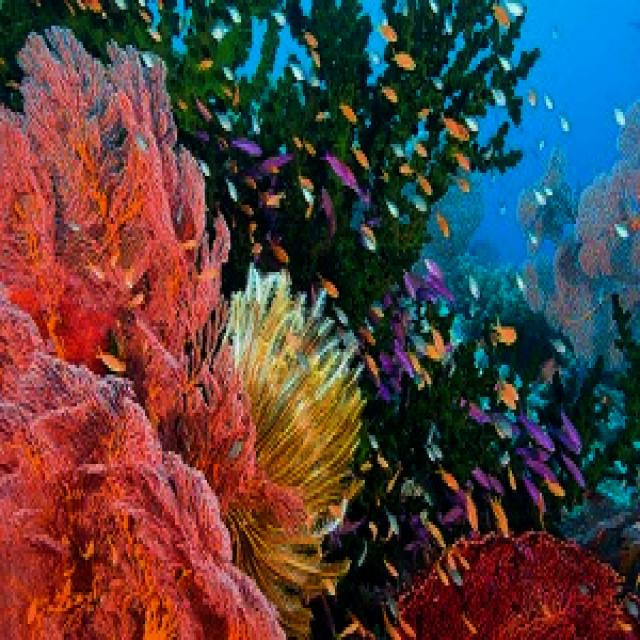Coral: (0, 22, 310, 636), (207, 260, 369, 640), (516, 93, 640, 371), (402, 526, 637, 640)
